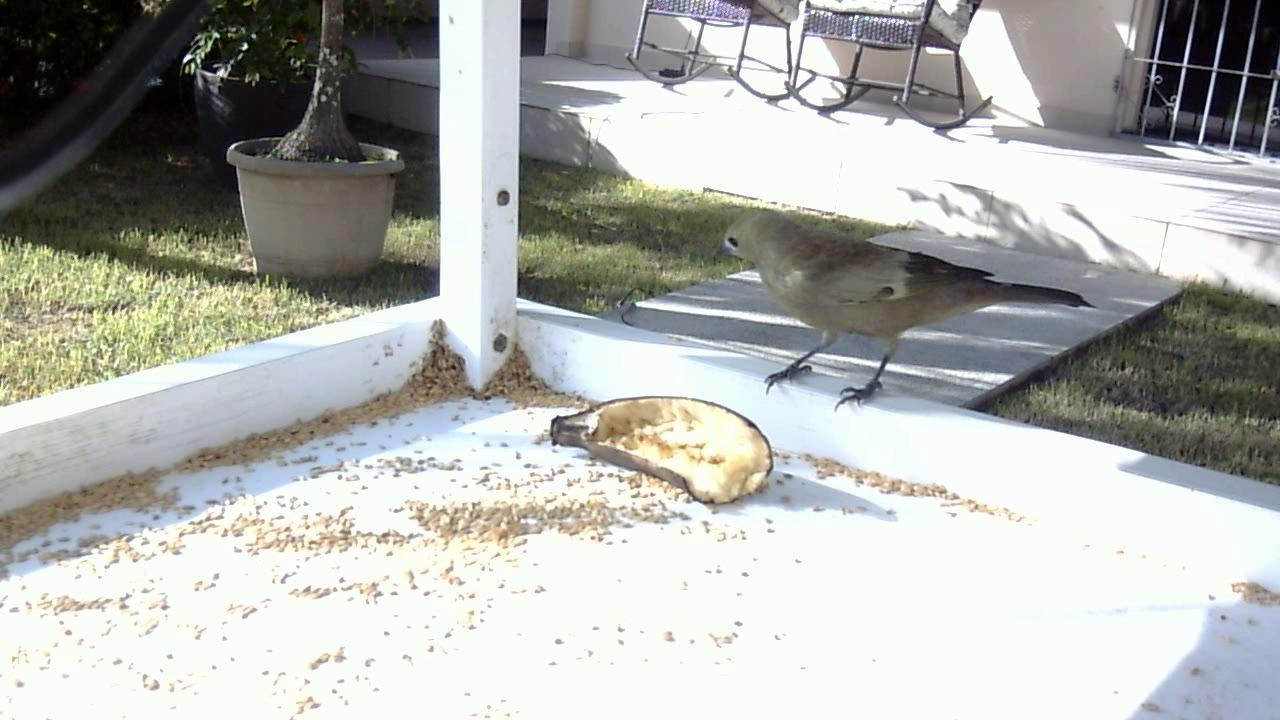sanhaco_do_coqueiro: (698, 178, 1106, 442)
